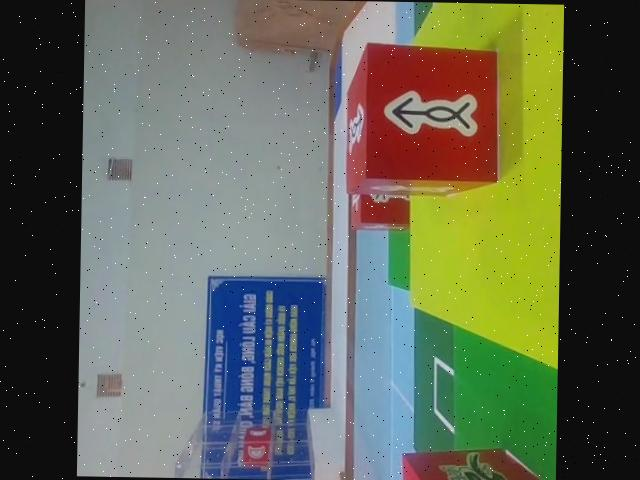R1: (398, 446, 556, 480)
R2 Real: (344, 42, 500, 199)
